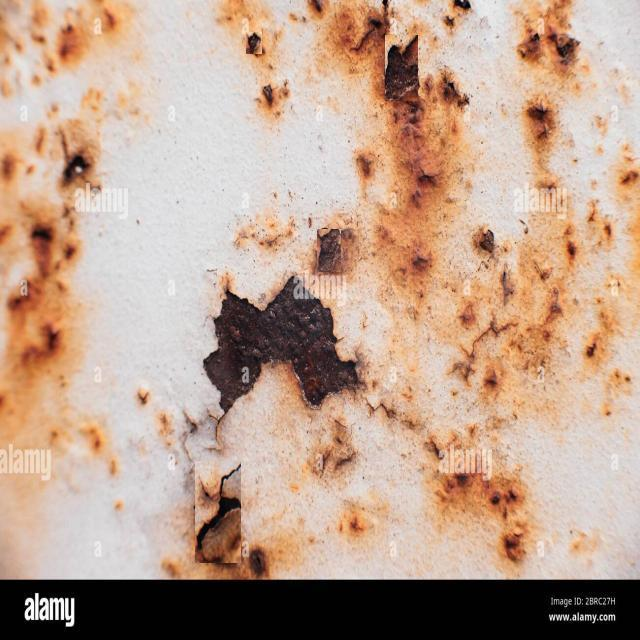corrosion: (0, 1, 640, 576)
